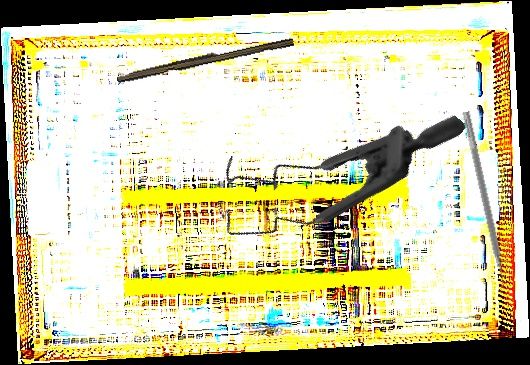Scalpel Handle: (115, 32, 295, 87)
Spatula Surgical: (454, 111, 511, 293)
Speculum: (192, 22, 468, 308)
